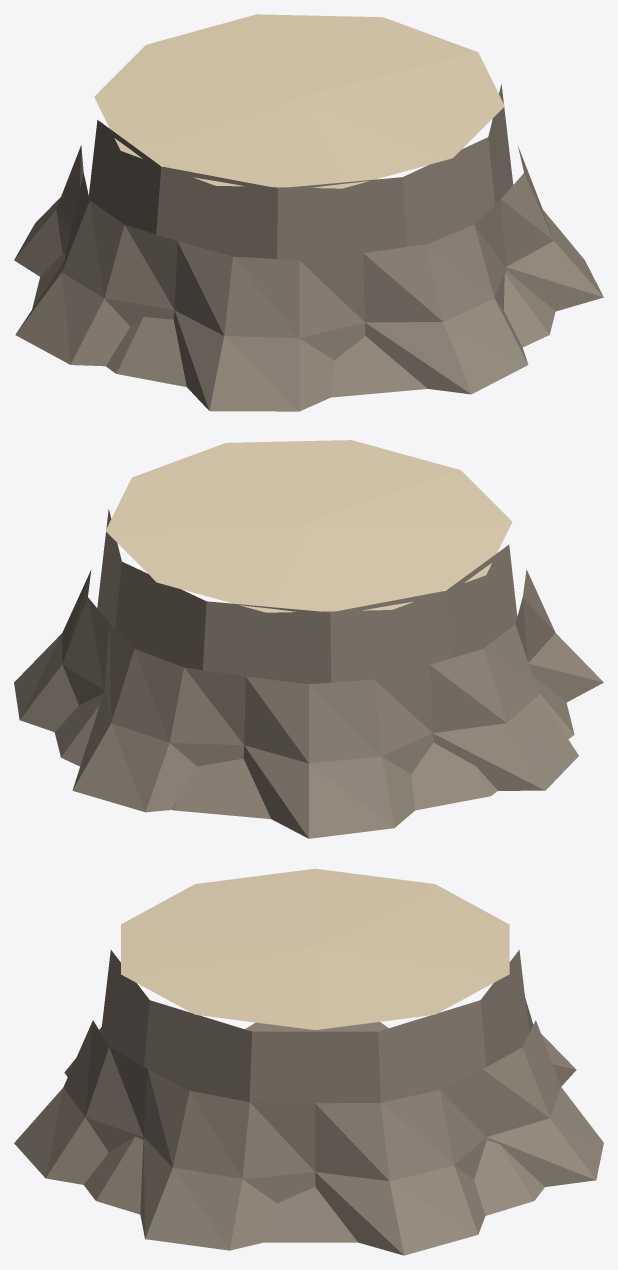
The model's file is temperate-forest-ecology-oak-stump-cut-2b69ec0b__3819.glb.
3 views of the same model, one above another, from view 1: azimuth 30°, elevation 25°; view 2: azimuth 150°, elevation 25°; view 3: azimuth 270°, elevation 25° (orthographic).
Visible parts, largest first — view 1: oak-stump-cut; view 2: oak-stump-cut; view 3: oak-stump-cut.
Part boxes in pixels (left/top/right/bottom): oak-stump-cut: left=14, top=14, right=603, bottom=411; oak-stump-cut: left=14, top=440, right=603, bottom=838; oak-stump-cut: left=14, top=868, right=603, bottom=1255.
Bounding box in the file's own units: 1.5 × 0.5357 × 1.51.
